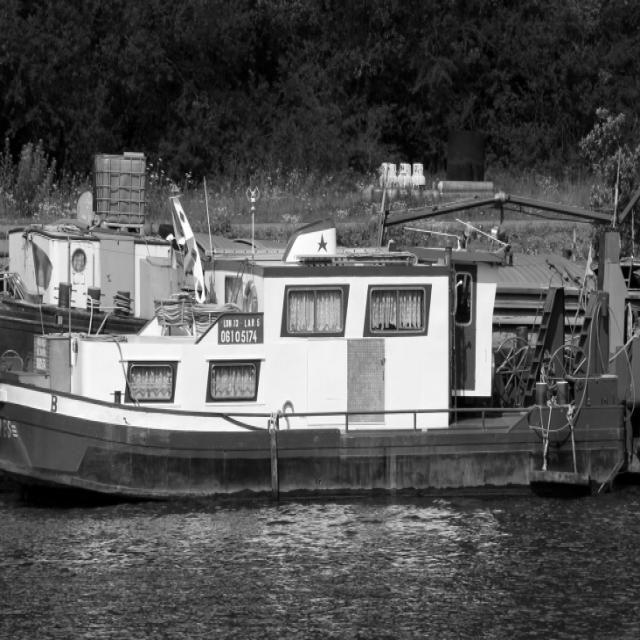tugboat: (1, 185, 628, 510)
